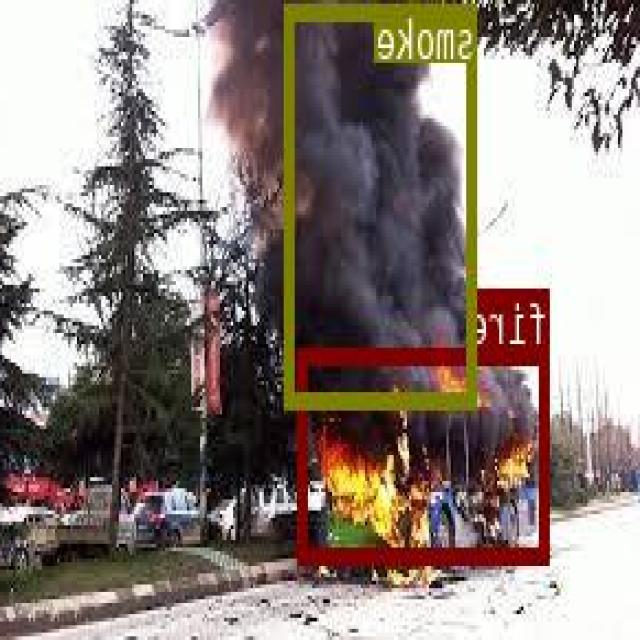fire: (301, 344, 551, 560)
smoke: (286, 1, 479, 407)
